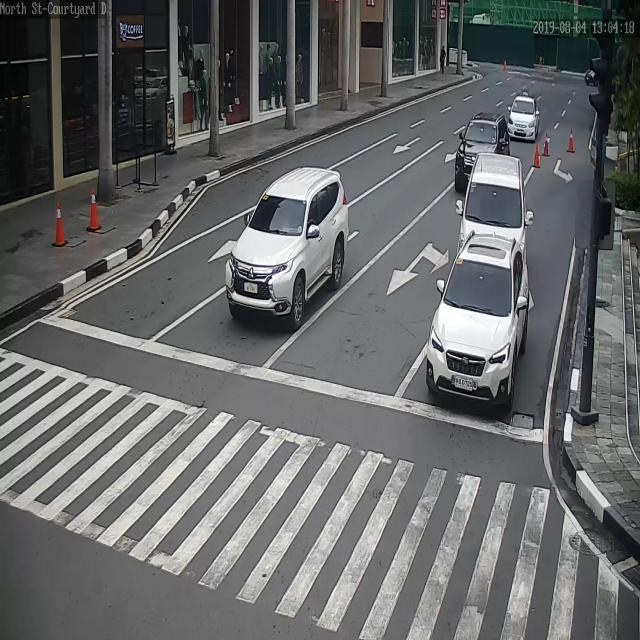car: (227, 166, 348, 327), (427, 234, 530, 409), (453, 114, 512, 177), (507, 92, 539, 139), (585, 68, 600, 88)
van: (459, 149, 530, 254)
